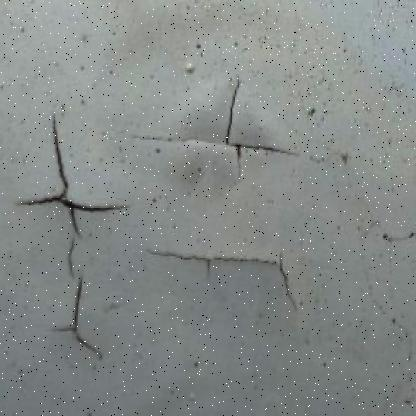Crack: (1, 85, 133, 359), (120, 65, 326, 190), (138, 213, 318, 328)
